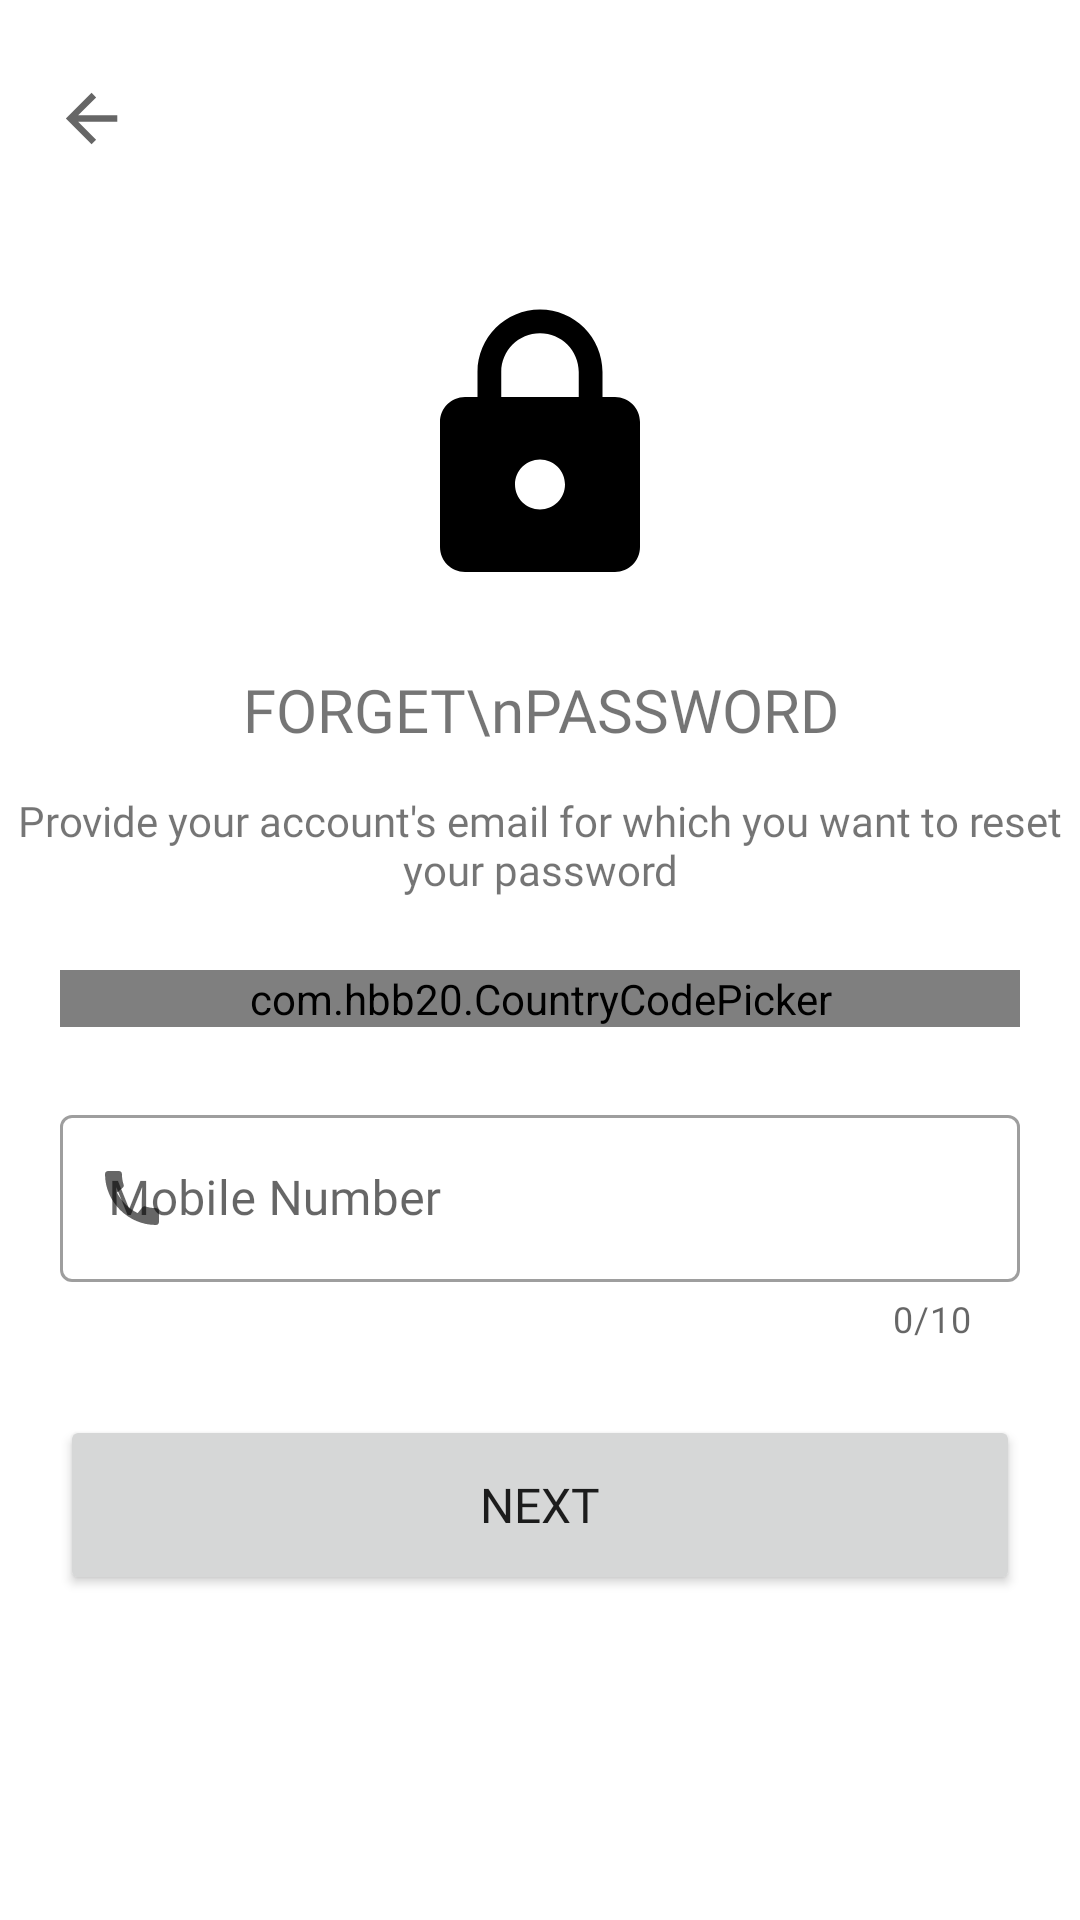

Screen size 1080x1920. Icon name, then its box in pixels as (x1, y1, x2, y2):
arrow back: (66, 93, 118, 144)
lock: (440, 309, 640, 572)
